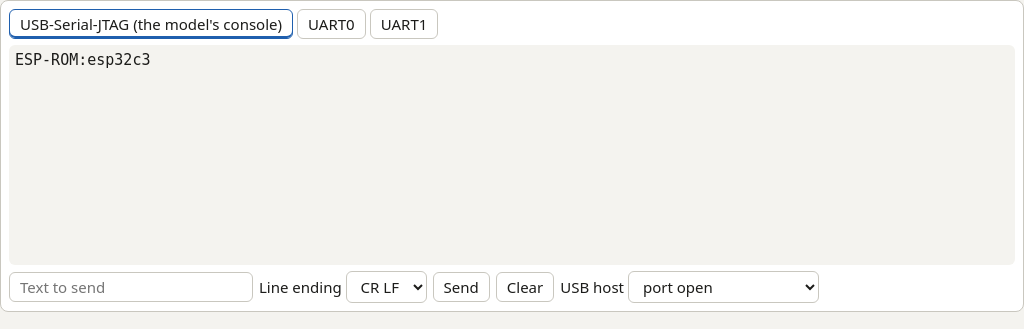
it: ConsolePanel › moves between consoles with the arrows
The image size is (1024, 329).
Click the tab "USB-Serial-JTAG (the model's console)". click: (151, 24)
box: [9,9,293,39]
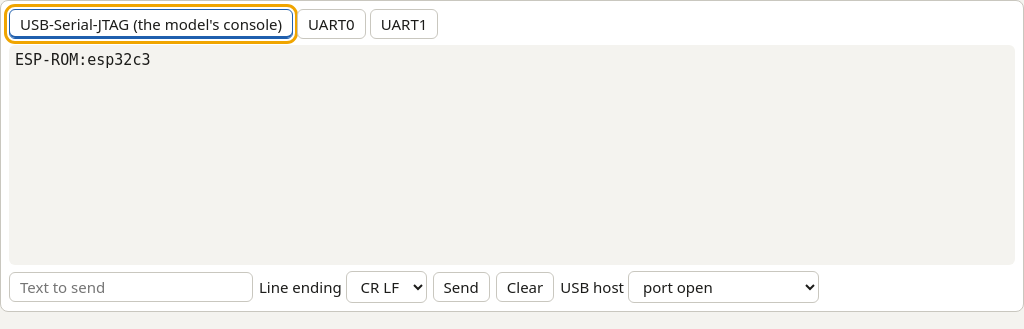
Press Arrowright
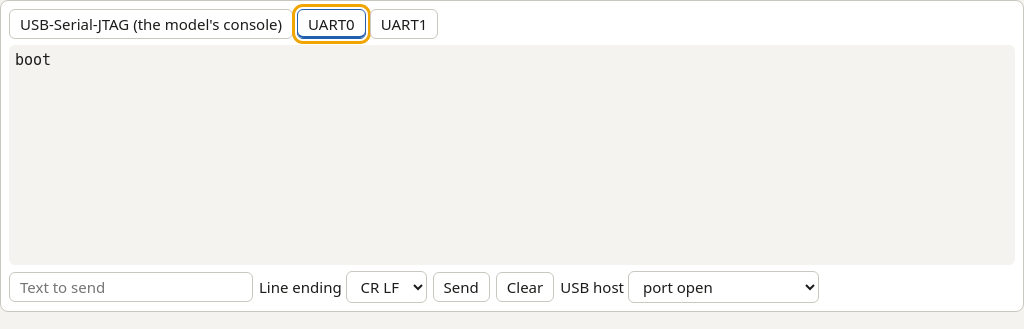
Now the text "boot" is shown
